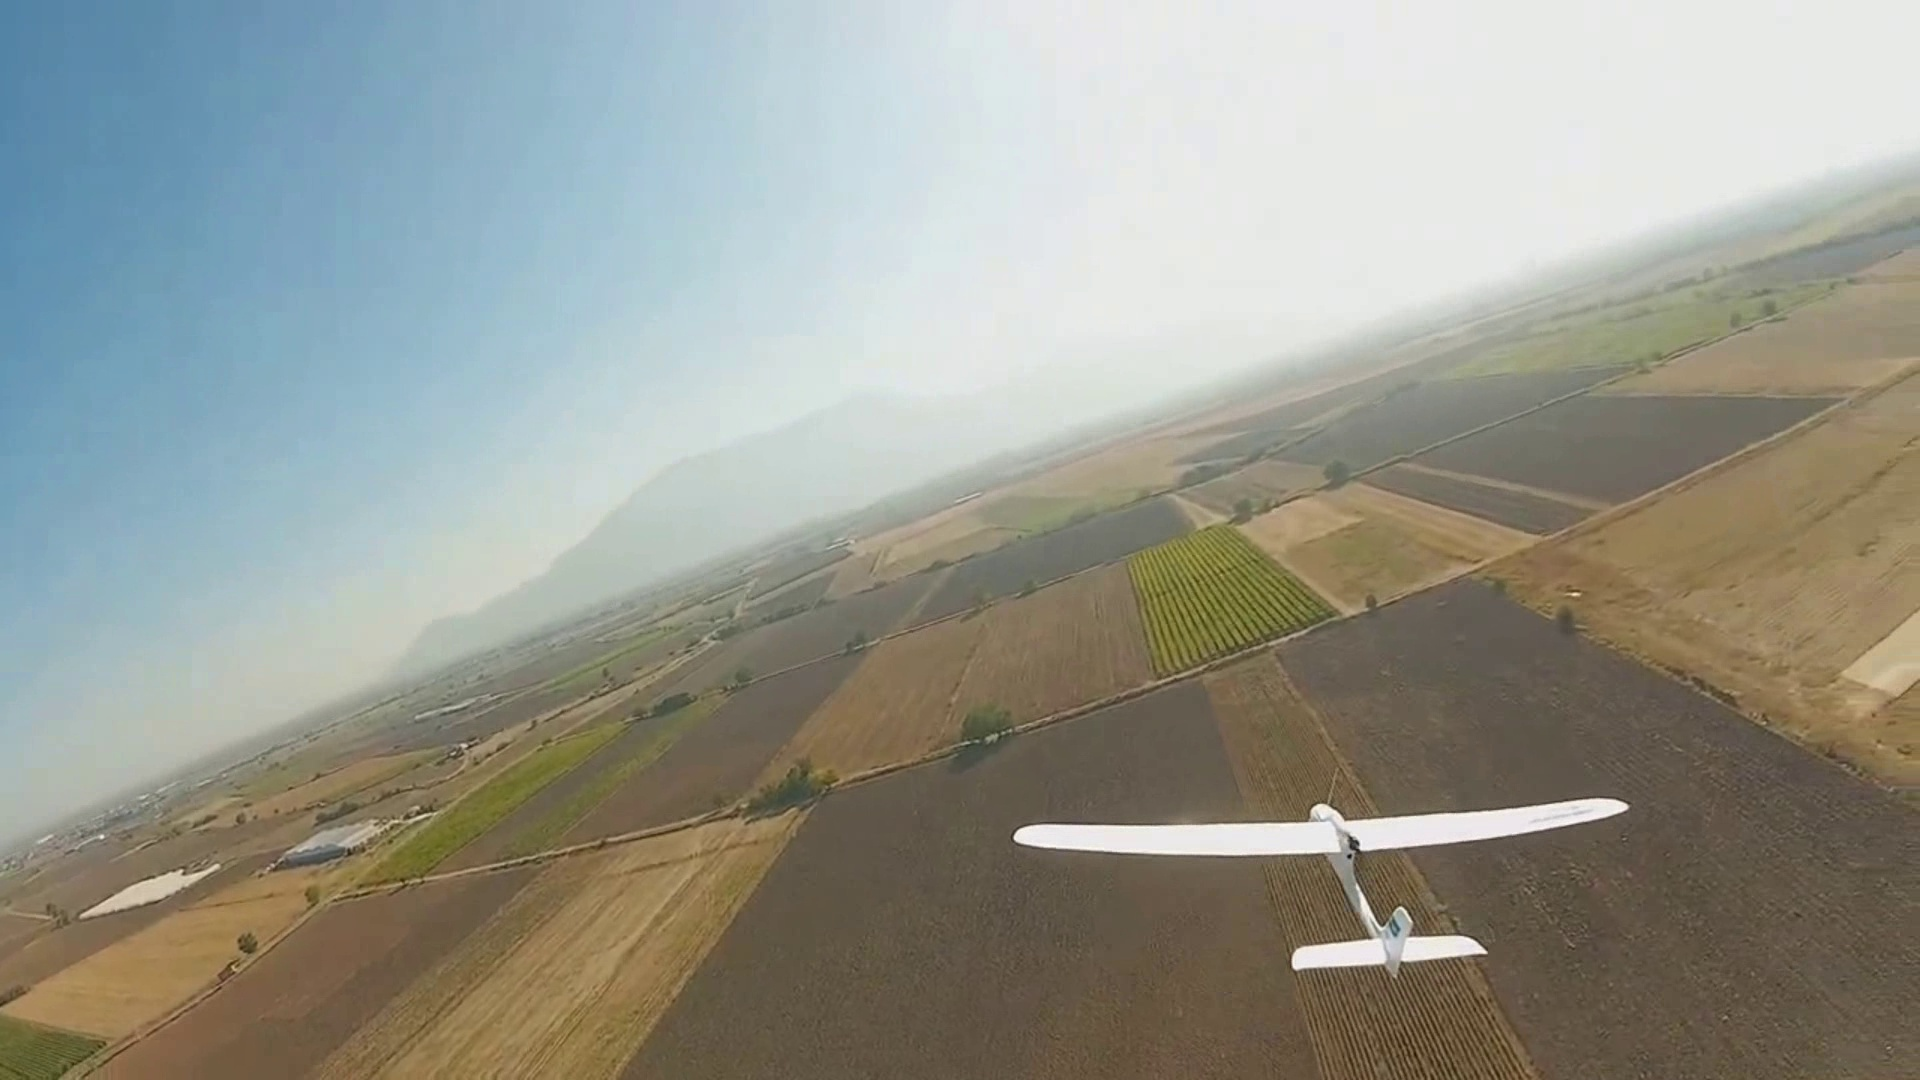airplane: (1015, 799, 1630, 971)
